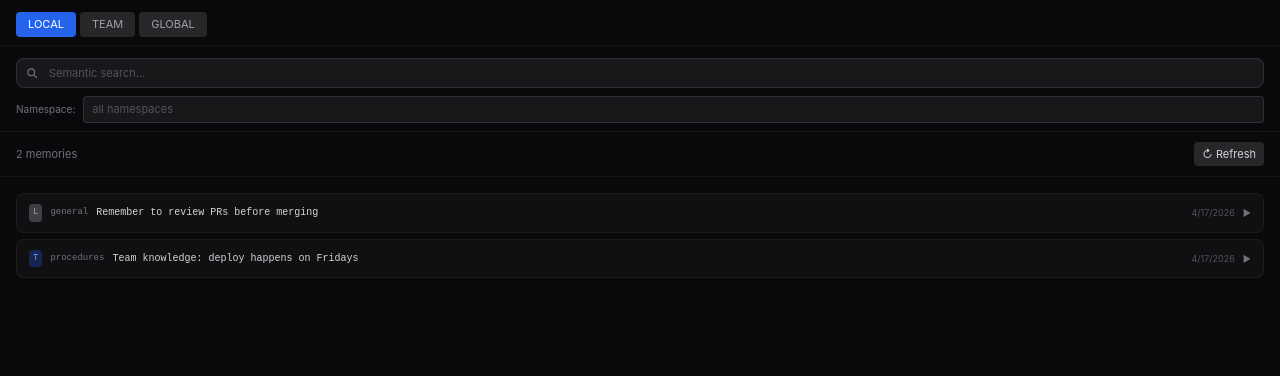
it: MemoryInspectorPanel — expand/collapse › clicking a row header expands it and shows the full content in a pre tag
Click the button "L general Remember to review PRs before merging 4/17/2026 ▶".
click(69, 212)  # box [17, 194, 1263, 232]
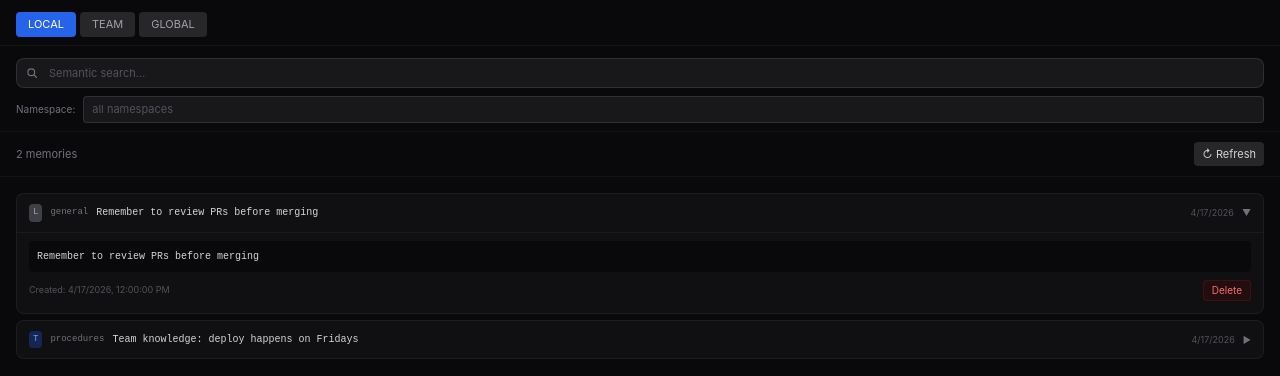
Now the element named "Memory details" is shown, box [17, 232, 1263, 312]
